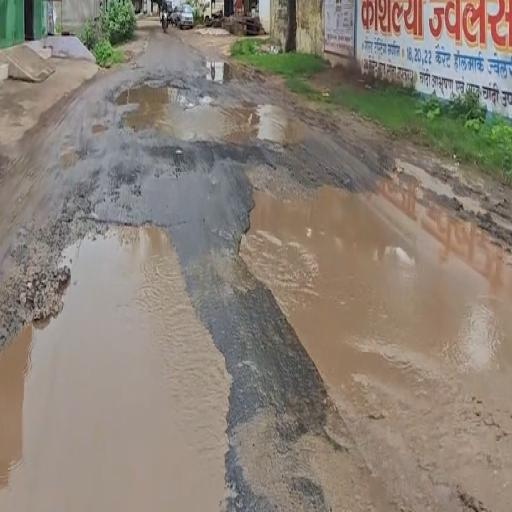pothole: (7, 168, 512, 506), (75, 46, 322, 155)
